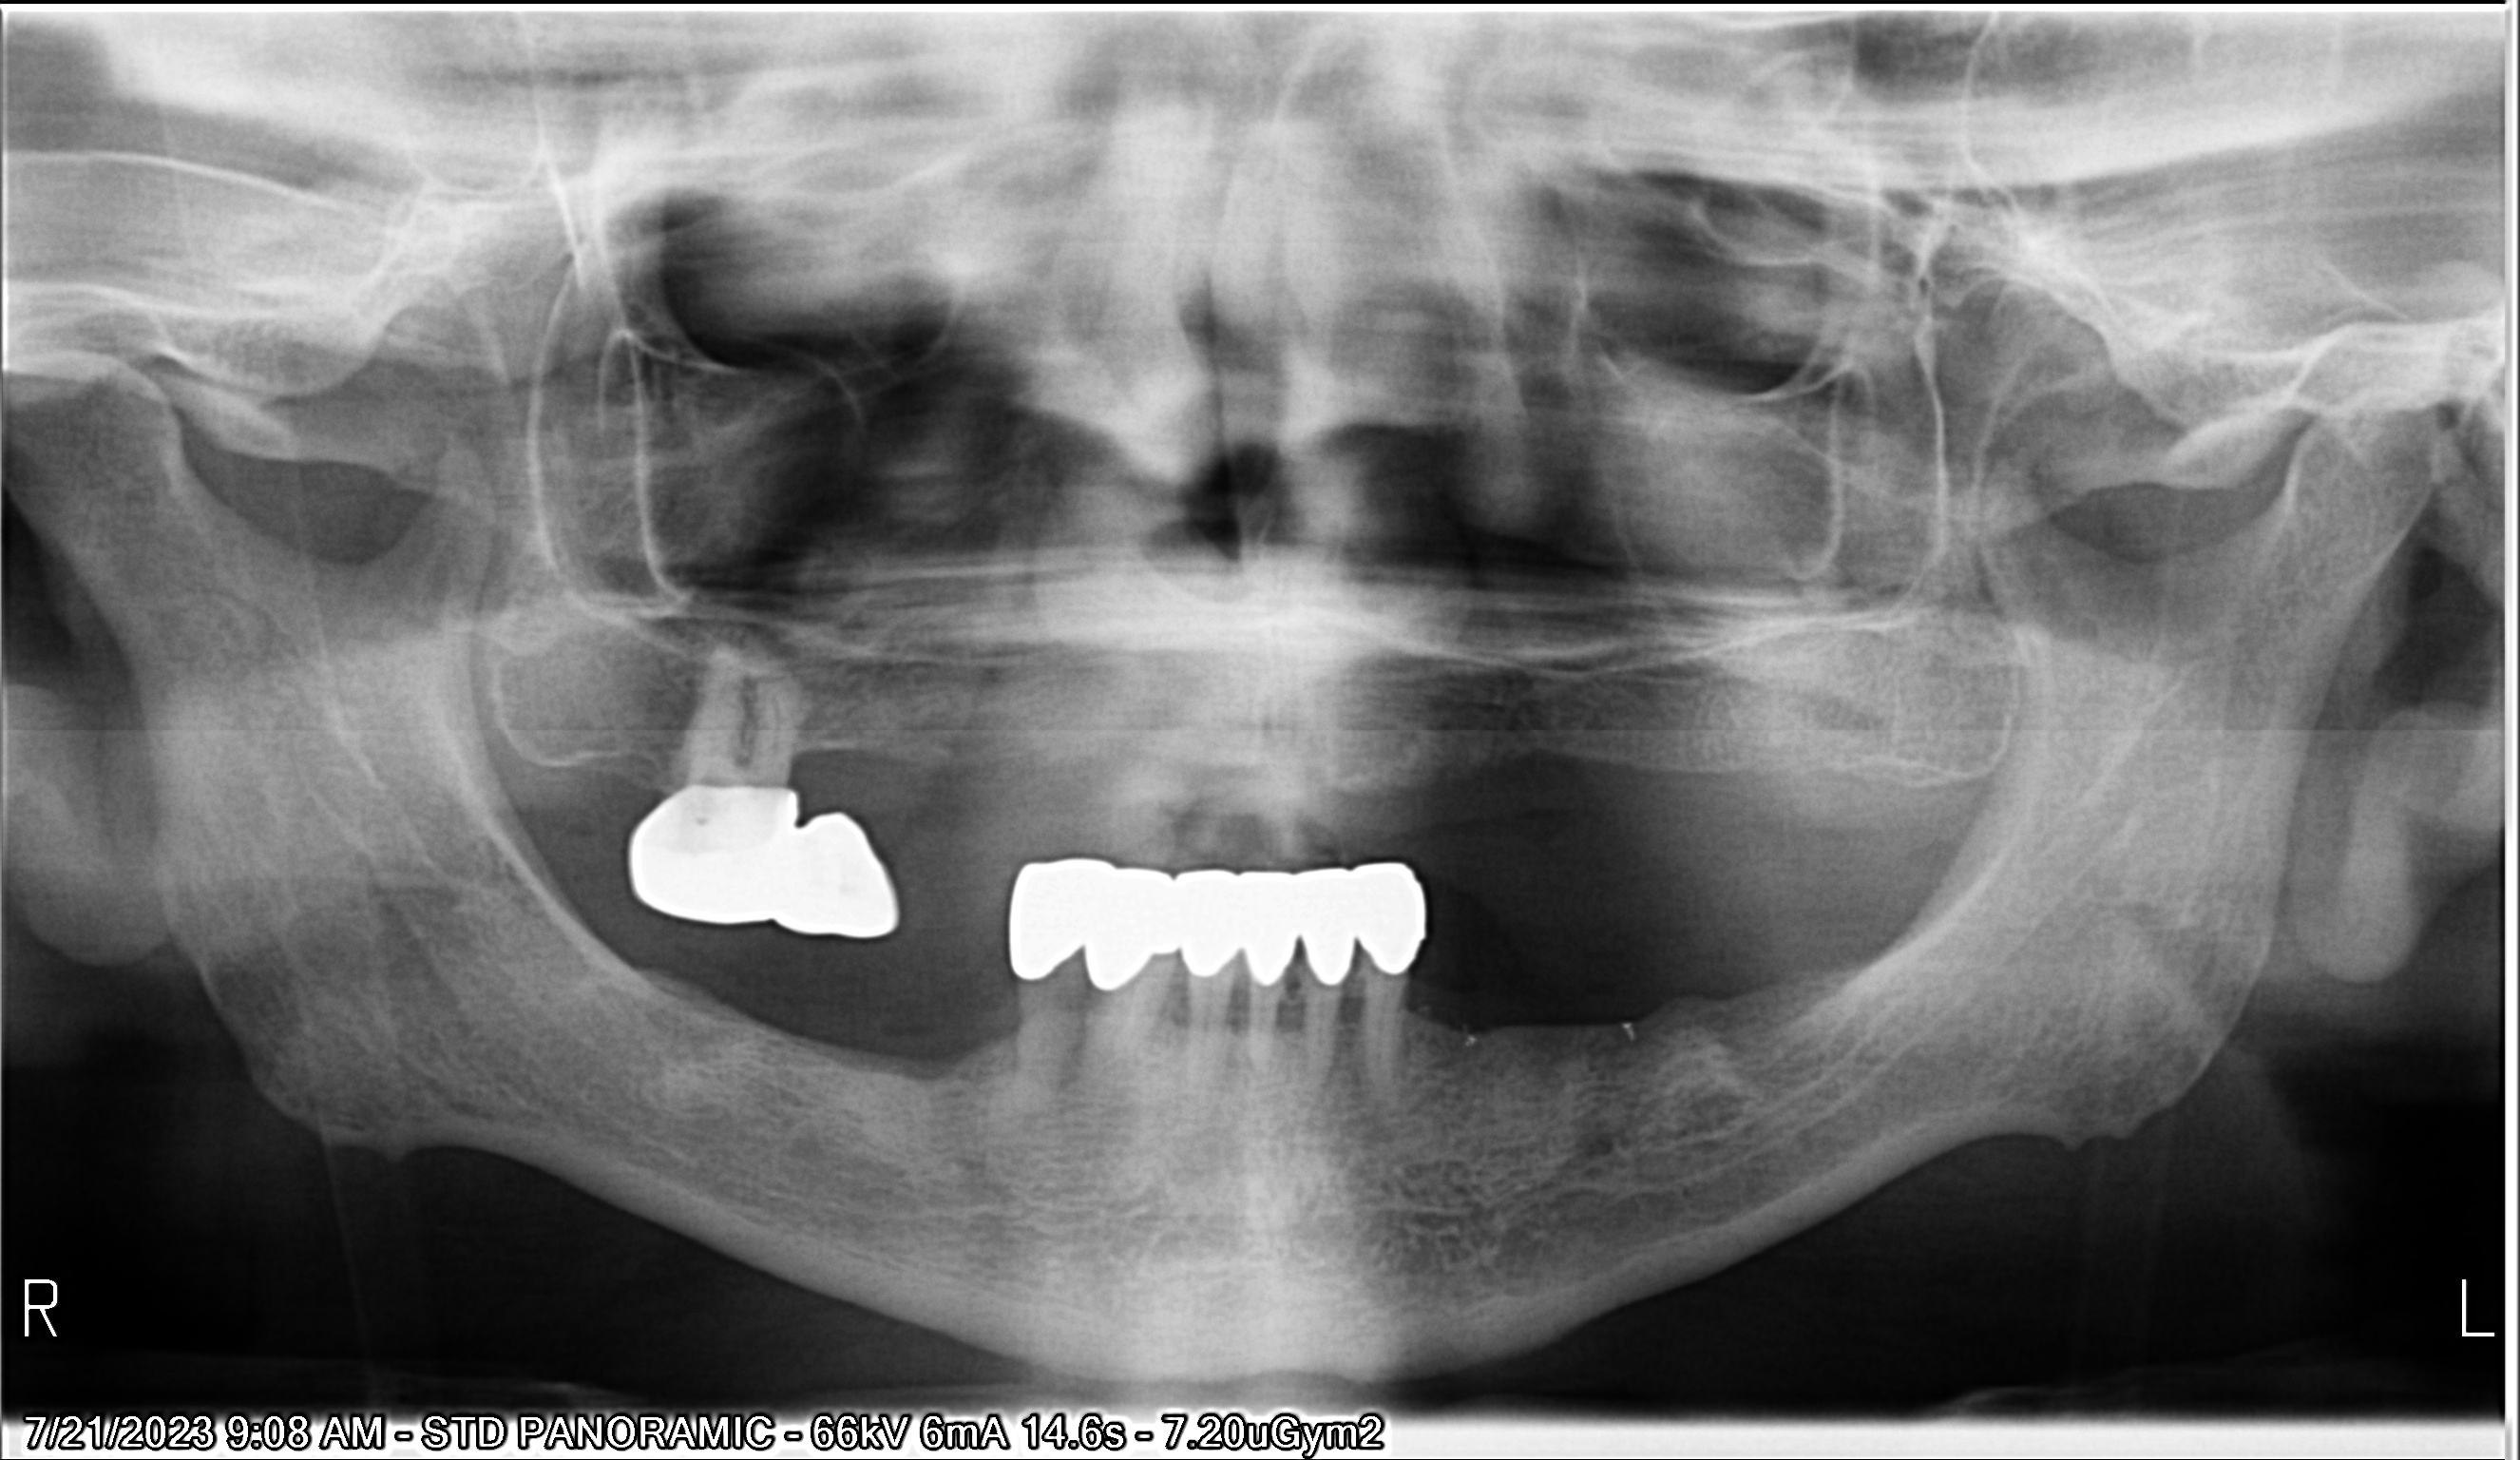BON: (1158, 972, 1197, 1032), (1280, 984, 1309, 1032), (1348, 980, 1370, 1029), (1068, 972, 1084, 1032), (1231, 977, 1245, 1034)
PRR: (1025, 855, 1424, 973), (637, 793, 886, 923)
